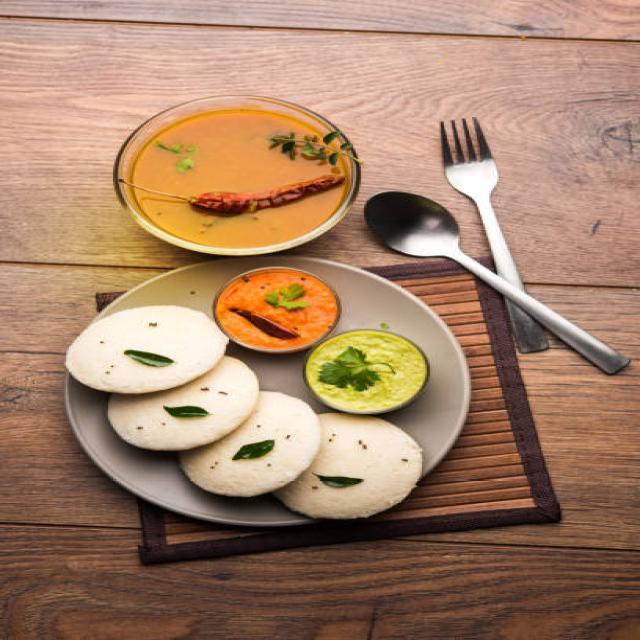GREEN CHUTNEY: (308, 331, 431, 412)
IDLI: (69, 307, 428, 518)
RED CHUTNEY: (221, 267, 345, 352)
SAMBAR: (131, 109, 357, 248)
